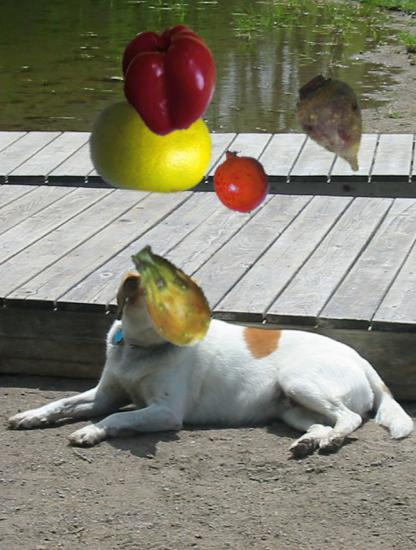Beetroot: (285, 71, 389, 175)
Cactus: (114, 241, 226, 353)
Pepper: (116, 24, 225, 133)
Pomegranate: (207, 147, 276, 216)
Pomelo: (87, 83, 215, 211)
